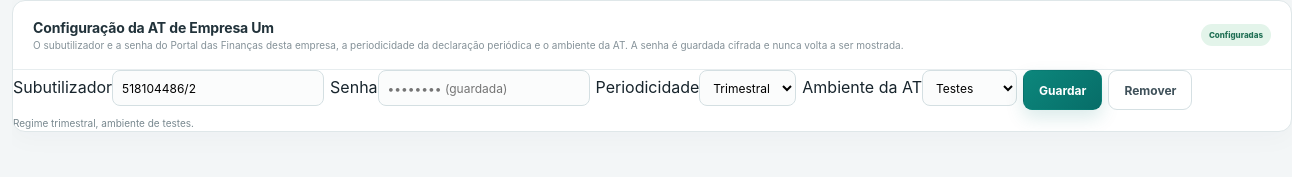
Scenario: credenciais da AT da empresa › exige a senha para guardar e guarda-a para a empresa certa
Expected: the field showing "518104486/2" is shown, [112,70,324,106]
Click the button "Guardar" at (1063, 90), box [1023,70,1102,110]
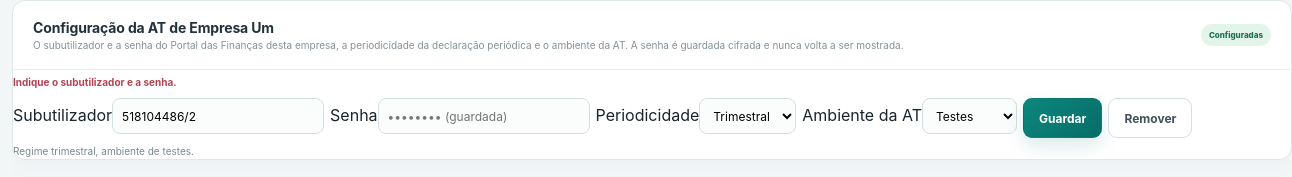
Now the text "Indique o subutilizador e a senha." is shown, box [13,76,177,88]
Type "senha-da-empresa" into the password field labelled "Senha" at (484, 116), box [378,98,590,134]
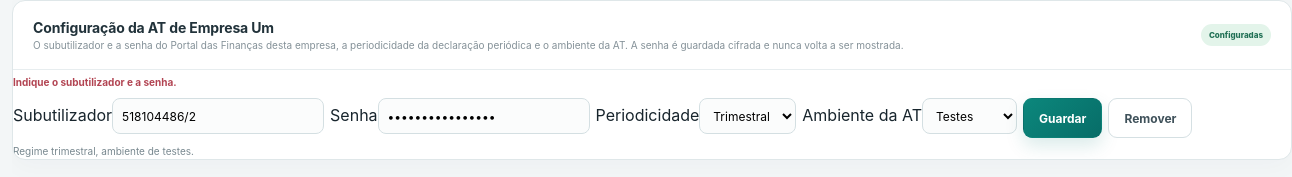
Click the button "Guardar" at (1063, 118), box [1023,98,1102,138]
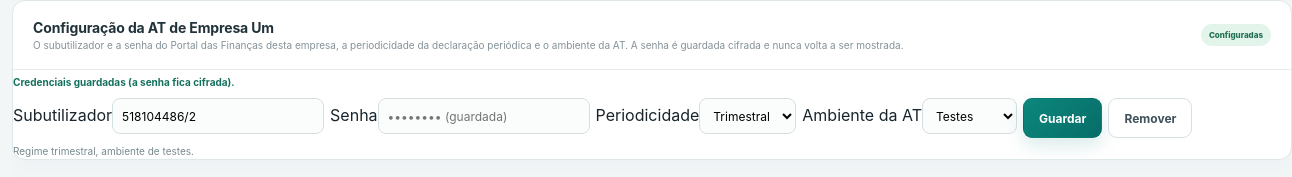
Now the text "Credenciais guardadas (a senha fica cifrada)." is shown, box [13,76,235,88]
Now the password field labelled "Senha" is empty, box [378,98,590,134]
